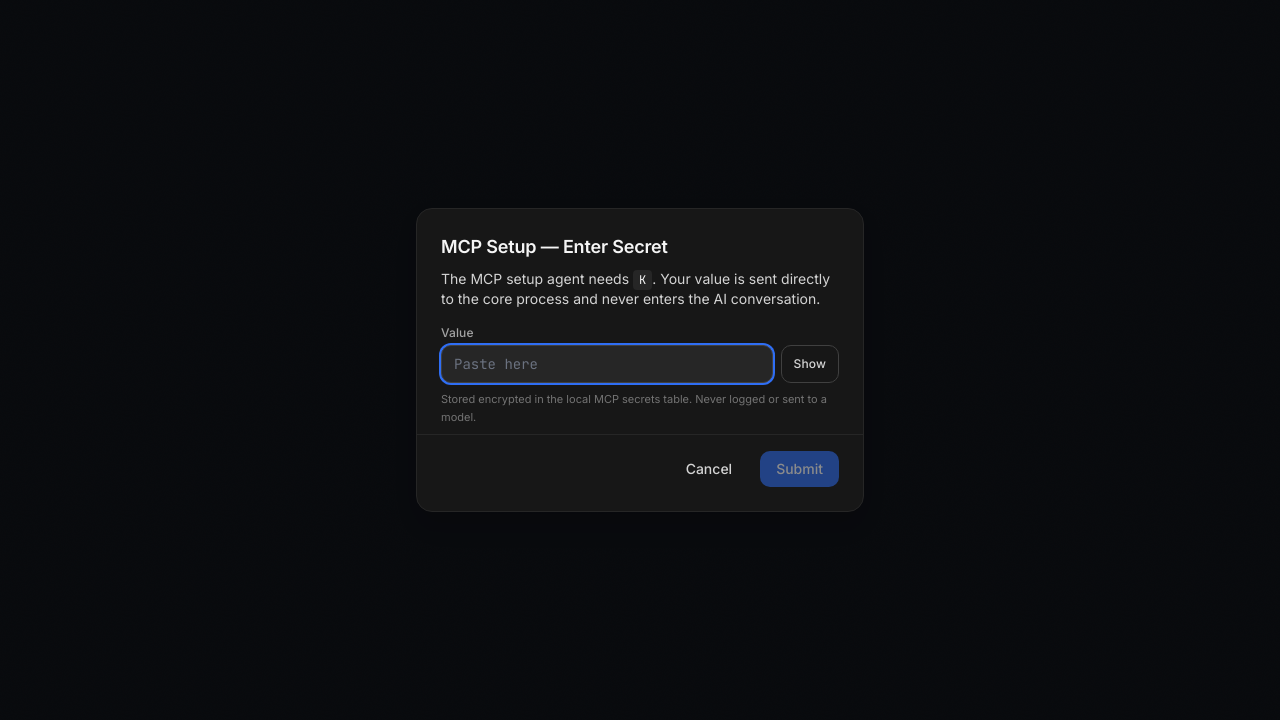
Test case: SecretPromptDialog › surfaces submit errors without dismissing
In the password field labelled "Value": (607, 364) 441,345 -> 772,383, type "v"
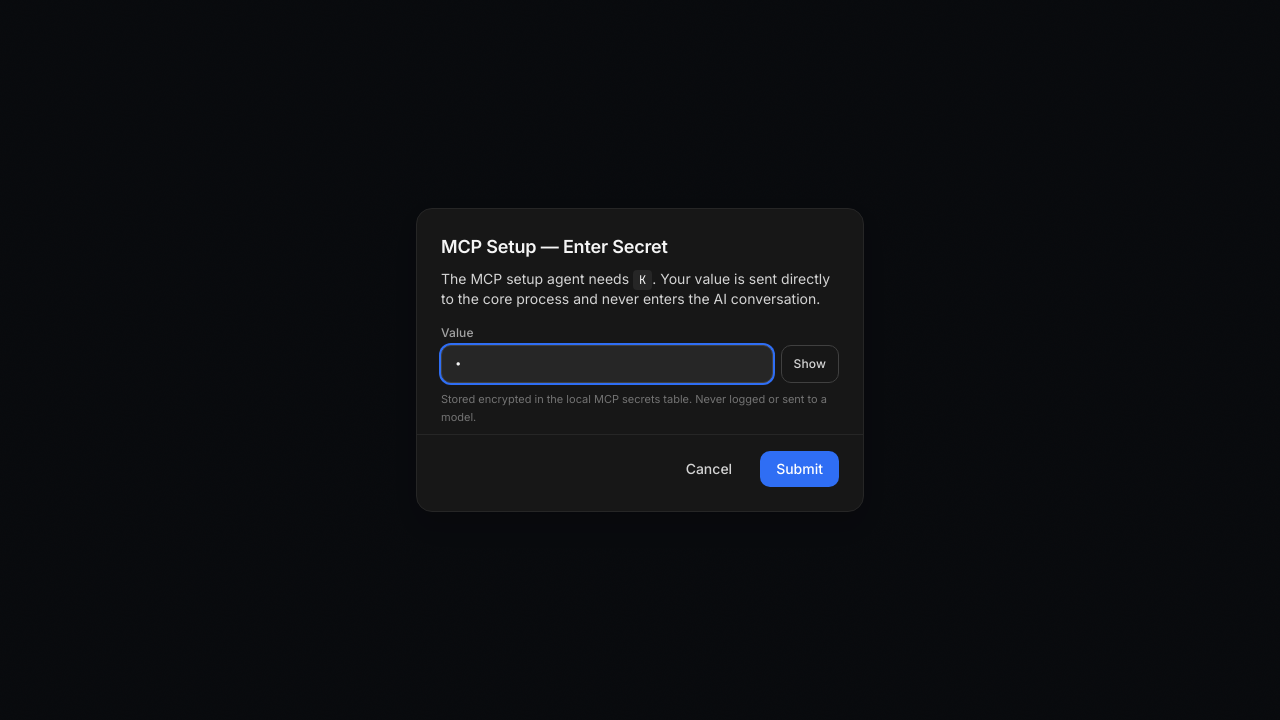
Click the button "Submit": click(800, 469) 760,451 -> 839,487
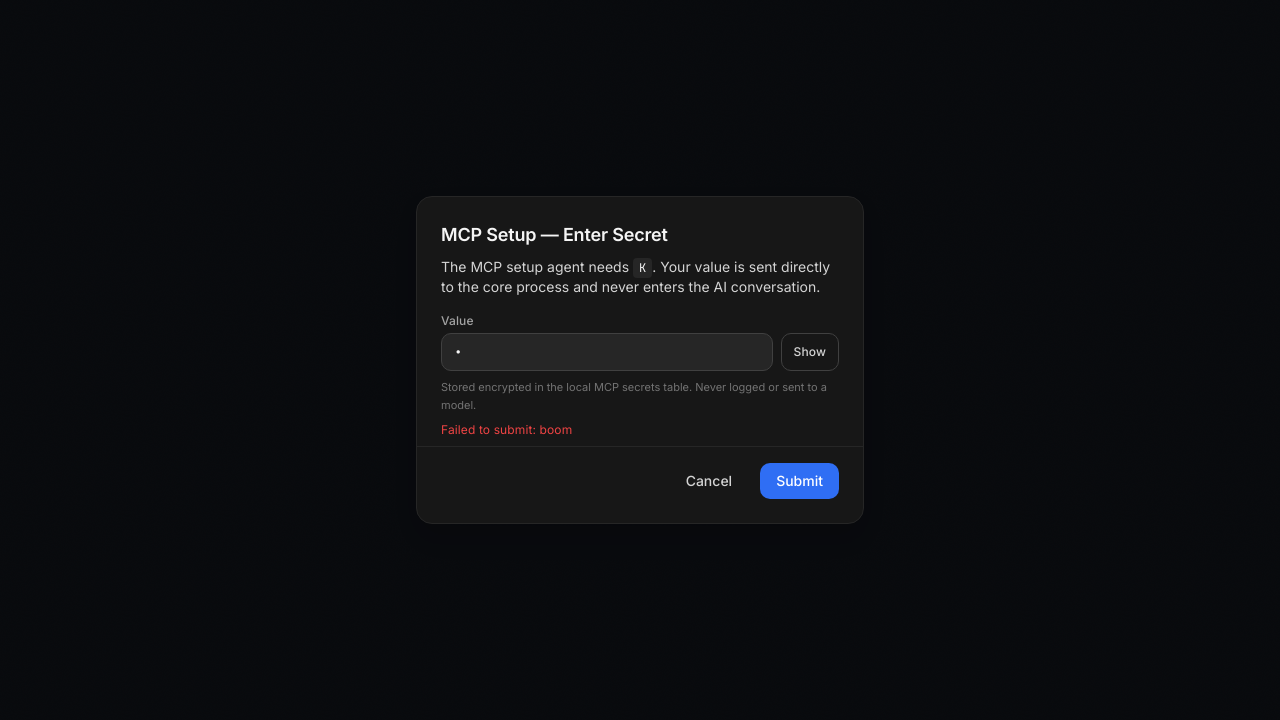
expect the text "Failed to submit: boom" is shown: met, box 441,422 -> 572,437
